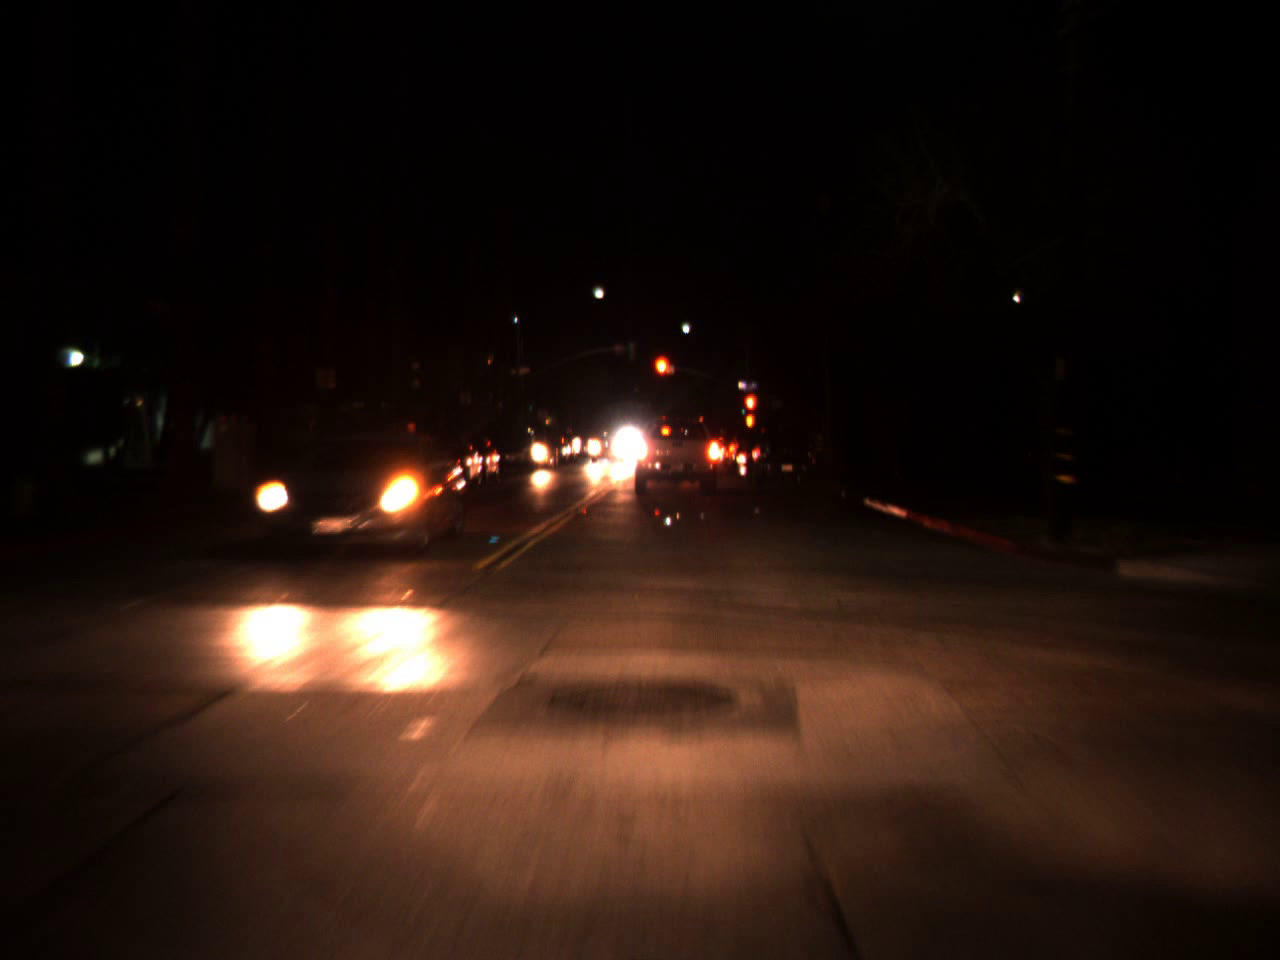stop: (651, 351, 673, 399), (742, 391, 758, 431)
